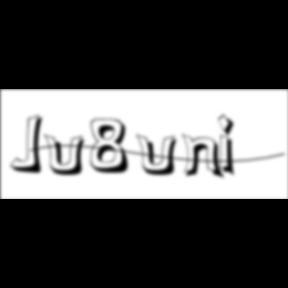8: (90, 117, 136, 176)
J: (11, 114, 50, 176)
i: (218, 112, 242, 180)
n: (182, 132, 228, 181)
u: (44, 132, 92, 178), (136, 132, 184, 178)
